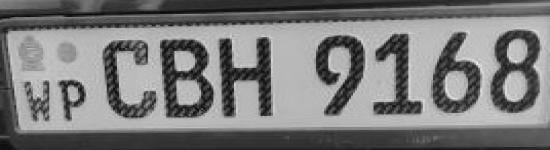1: (371, 25, 429, 120)
6: (428, 25, 486, 120)
8: (485, 25, 546, 119)
9: (309, 31, 370, 118)
C: (157, 35, 217, 122), (98, 37, 159, 120)
H: (217, 31, 282, 124)
P: (56, 76, 94, 124)
W: (20, 78, 58, 124)
